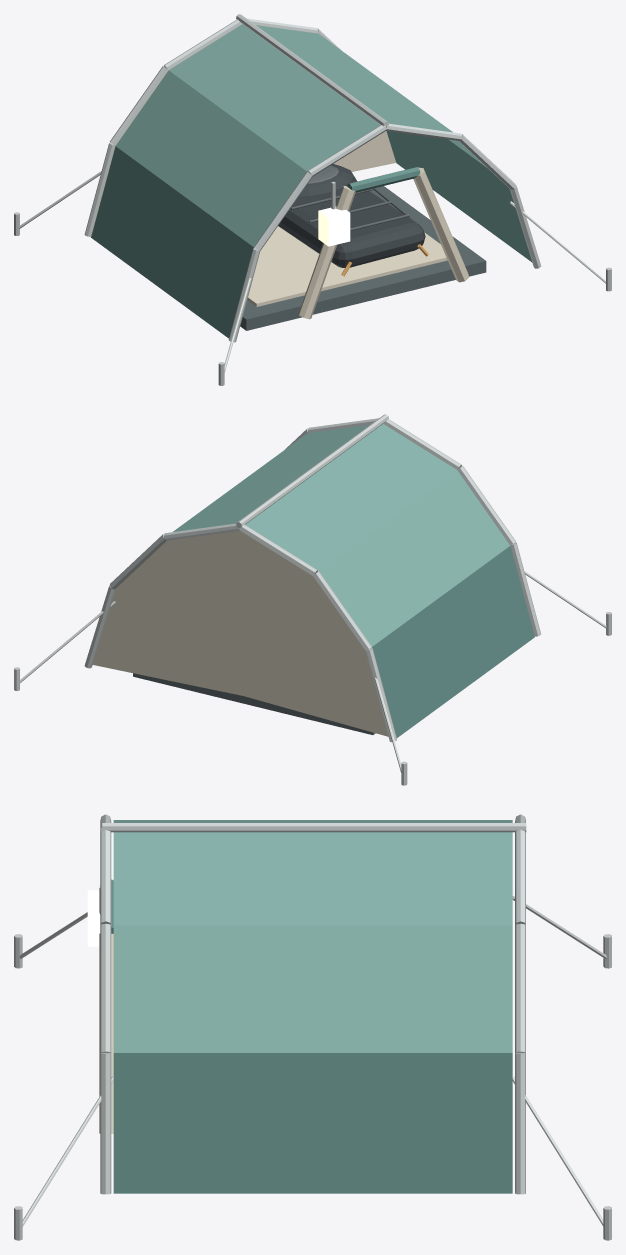
The model's file is harbor_tent.glb.
3 views of the same model, one above another, from view 1: azimuth 30°, elevation 25°; view 2: azimuth 150°, elevation 25°; view 3: azimuth 270°, elevation 25° (orthographic). The views are drawn at different scales.
Parts seen in each view (by area): view 1: Tent_RipstopPanel_2, Tent_RipstopPanel_1, Tent_RipstopPanel_3, Tent_RipstopPanel_6, Tent_InnerGroundsheet, Tent_BlackSleepingBag, Tent_WaterproofFloor, Tent_RipstopPanel_4, Tent_RightDoorRoll, Tent_LeftDoorRoll, Tent_RoofSpreader, Tent_RearInner_6 (+12 smaller); view 2: Tent_RipstopPanel_2, Tent_RipstopPanel_1, Tent_RipstopPanel_3, Tent_RearInner_6, Tent_RearInner_4, Tent_RearInner_5, Tent_RearInner_1, Tent_RearInner_3, Tent_RearInner_2, Tent_RipstopPanel_4, Tent_WaterproofFloor, Tent_RoofSpreader (+9 smaller); view 3: Tent_RipstopPanel_6, Tent_RipstopPanel_5, Tent_RipstopPanel_4, Tent_RoofSpreader, Tent_FrontAluminum_6, Tent_RearAluminum_6, Tent_FrontAluminum_5, Tent_RearAluminum_5, Tent_RipstopPanel_3, Tent_FrontAluminum_4, Tent_RearAluminum_4, Tent_RightDoorRoll (+3 smaller).
Part boxes in pixels (bbox=[...]): Tent_RipstopPanel_2: bbox=[116, 70, 306, 246]; Tent_RipstopPanel_1: bbox=[91, 146, 253, 338]; Tent_RipstopPanel_3: bbox=[169, 24, 380, 171]; Tent_RipstopPanel_6: bbox=[386, 131, 532, 262]; Tent_InnerGroundsheet: bbox=[247, 226, 447, 306]; Tent_BlackSleepingBag: bbox=[278, 180, 425, 267]; Tent_WaterproofFloor: bbox=[240, 186, 486, 330]; Tent_RipstopPanel_4: bbox=[256, 25, 452, 132]; Tent_RightDoorRoll: bbox=[413, 167, 468, 282]; Tent_LeftDoorRoll: bbox=[298, 186, 355, 319]; Tent_RoofSpreader: bbox=[236, 14, 388, 126]; Tent_RearInner_6: bbox=[333, 131, 395, 171]; Tent_RipstopPanel_2: bbox=[319, 470, 510, 646]; Tent_RipstopPanel_1: bbox=[372, 546, 534, 737]; Tent_RipstopPanel_3: bbox=[245, 424, 456, 571]; Tent_RearInner_6: bbox=[93, 587, 242, 695]; Tent_RearInner_4: bbox=[171, 530, 243, 695]; Tent_RearInner_5: bbox=[118, 540, 242, 695]; Tent_RearInner_1: bbox=[244, 647, 388, 736]; Tent_RearInner_3: bbox=[243, 533, 314, 695]; Tent_RearInner_2: bbox=[243, 578, 364, 695]; Tent_RipstopPanel_4: bbox=[173, 425, 369, 531]; Tent_WaterproofFloor: bbox=[133, 673, 375, 734]; Tent_RoofSpreader: bbox=[236, 414, 388, 527]; Tent_RipstopPanel_6: bbox=[113, 1053, 512, 1193]; Tent_RipstopPanel_5: bbox=[113, 925, 512, 1052]; Tent_RipstopPanel_4: bbox=[113, 832, 512, 925]; Tent_RoofSpreader: bbox=[102, 823, 526, 832]; Tent_FrontAluminum_6: bbox=[100, 1053, 111, 1194]; Tent_RearAluminum_6: bbox=[515, 1053, 525, 1194]; Tent_FrontAluminum_5: bbox=[100, 923, 111, 1052]; Tent_RearAluminum_5: bbox=[515, 923, 525, 1052]; Tent_RipstopPanel_3: bbox=[113, 820, 512, 822]; Tent_FrontAluminum_4: bbox=[100, 829, 111, 925]; Tent_RearAluminum_4: bbox=[515, 829, 525, 925]; Tent_RightDoorRoll: bbox=[99, 933, 113, 1133].
Bounding box in the file's own units: 2.88 × 1.36 × 2.64.
